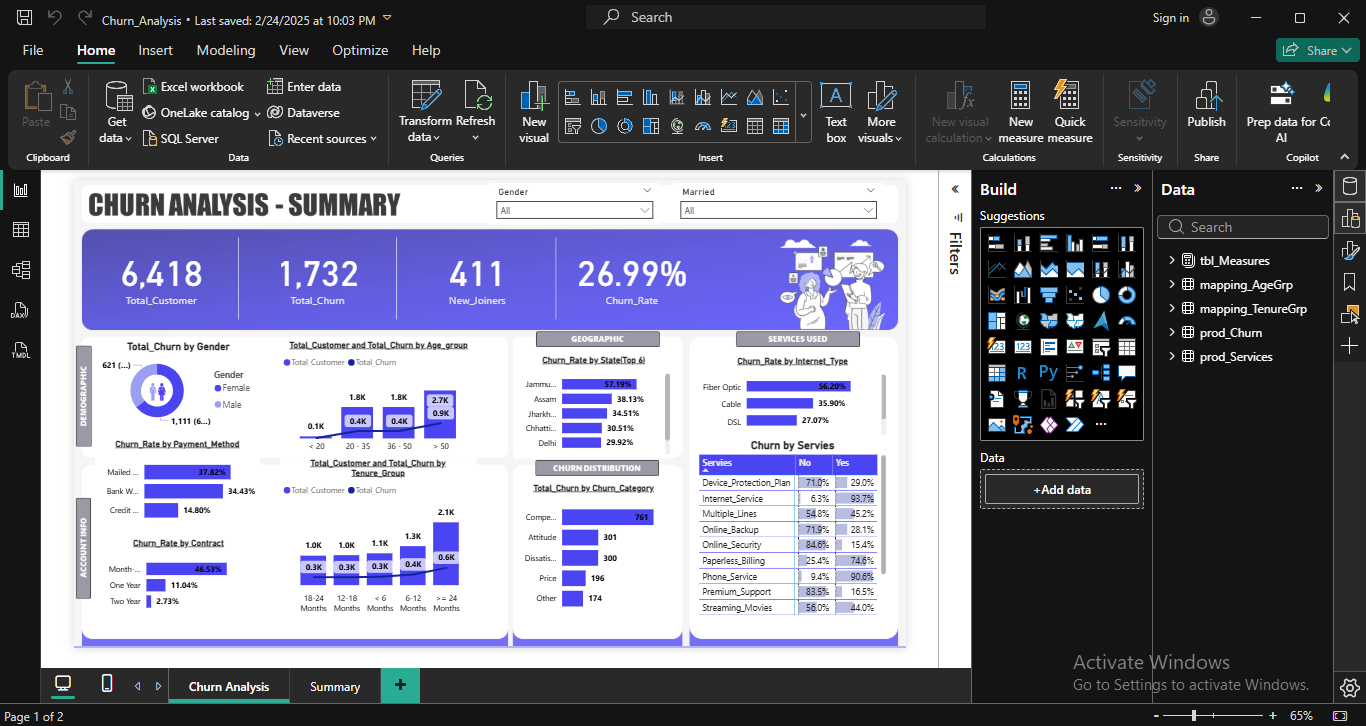

The page's visual inventory and layout, read from the dashboard file:
{"tool":"powerbi","page":{"name":"Churn Analysis","canvas":[1280,720],"ordinal":0},"visuals":[{"type":"card","fields":{"Values":["tbl_Measures.Total_Customer"]},"box":[32.6,83.6,204.1,127.6],"z":0},{"type":"card","fields":{"Values":["tbl_Measures.Total_Churn"]},"box":[270.7,83.6,208.3,127.6],"z":1000},{"type":"card","fields":{"Values":["tbl_Measures.New_Joiners"]},"box":[518.7,83.6,204.1,127.6],"z":2000},{"type":"card","fields":{"Values":["tbl_Measures.Churn_Rate"]},"box":[759.7,83.6,197,127.6],"z":3000},{"type":"donutChart","fields":{"Category":["prod_Churn.Gender"],"Y":["tbl_Measures.Total_Churn"]},"box":[35.4,246.6,250.9,137.5],"z":4000},{"type":"lineStackedColumnComboChart","fields":{"Category":["mapping_AgeGrp.Age_group"],"Y2":["tbl_Measures.Total_Churn"],"Y":["tbl_Measures.Total_Customer"]},"box":[317.5,246.6,303.3,181.4],"z":5000},{"type":"clusteredBarChart","fields":{"Category":["prod_Churn.Payment_Method"],"Y":["tbl_Measures.Churn_Rate"]},"box":[32.6,398.3,253.7,138.9],"z":6000},{"type":"clusteredBarChart","fields":{"Category":["prod_Churn.Contract"],"Y":["tbl_Measures.Churn_Rate"]},"box":[35.4,551.3,250.9,123.3],"z":7000},{"type":"lineStackedColumnComboChart","fields":{"Y2":["tbl_Measures.Total_Churn"],"Y":["tbl_Measures.Total_Customer"],"Category":["mapping_TenureGrp.Tenure_Group"]},"box":[317.5,428,301.9,246.6],"z":8000},{"type":"clusteredBarChart","title":"Churn_Rate by State(Top 6)","fields":{"Y":["tbl_Measures.Churn_Rate"],"Category":["prod_Churn.State"]},"box":[677.5,269.3,245.2,158.7],"z":9000},{"type":"clusteredBarChart","fields":{"Category":["prod_Churn.Churn_Category"],"Y":["tbl_Measures.Total_Churn"]},"box":[677.5,466.3,245.2,208.3],"z":10000},{"type":"clusteredBarChart","fields":{"Y":["tbl_Measures.Churn_Rate"],"Category":["prod_Churn.Internet_Type"]},"box":[956.7,270.7,297.6,127.6],"z":11000},{"type":"pivotTable","title":"Churn by Servies","fields":{"Rows":["prod_Services.Servies"],"Columns":["prod_Services.Status"],"Values":["Sum(prod_Services.Churn_Status)"]},"box":[956.7,398.3,297.6,276.4],"z":12000},{"type":"image","box":[99.2,303.3,60.9,45.4],"z":12500},{"type":"slicer","fields":{"Values":["prod_Churn.Gender"]},"box":[640.6,4.3,260.8,63.8],"z":13000},{"type":"slicer","fields":{"Values":["prod_Churn.Married"]},"box":[922.7,4.3,321.7,58.1],"z":14000}]}

Visuals, with their boxes on the page's 1280x720 design canvas (x1, y1, x2, y2). These are canvas units, not pixel positions in the 1366x726 screenshot, which may show the page scaled, cropped or inside an application window:
card - tbl_Measures.Total_Customer: x1=33 y1=84 x2=237 y2=211
card - tbl_Measures.Total_Churn: x1=271 y1=84 x2=479 y2=211
card - tbl_Measures.New_Joiners: x1=519 y1=84 x2=723 y2=211
card - tbl_Measures.Churn_Rate: x1=760 y1=84 x2=957 y2=211
donutChart - prod_Churn.Gender x tbl_Measures.Total_Churn: x1=35 y1=247 x2=286 y2=384
lineStackedColumnComboChart - mapping_AgeGrp.Age_group x tbl_Measures.Total_Churn: x1=318 y1=247 x2=621 y2=428
clusteredBarChart - prod_Churn.Payment_Method x tbl_Measures.Churn_Rate: x1=33 y1=398 x2=286 y2=537
clusteredBarChart - prod_Churn.Contract x tbl_Measures.Churn_Rate: x1=35 y1=551 x2=286 y2=675
lineStackedColumnComboChart - tbl_Measures.Total_Churn x tbl_Measures.Total_Customer: x1=318 y1=428 x2=619 y2=675
"Churn_Rate by State(Top 6)" clusteredBarChart: x1=678 y1=269 x2=923 y2=428
clusteredBarChart - prod_Churn.Churn_Category x tbl_Measures.Total_Churn: x1=678 y1=466 x2=923 y2=675
clusteredBarChart - tbl_Measures.Churn_Rate x prod_Churn.Internet_Type: x1=957 y1=271 x2=1254 y2=398
"Churn by Servies" pivotTable: x1=957 y1=398 x2=1254 y2=675
image: x1=99 y1=303 x2=160 y2=349
slicer - prod_Churn.Gender: x1=641 y1=4 x2=901 y2=68
slicer - prod_Churn.Married: x1=923 y1=4 x2=1244 y2=62
